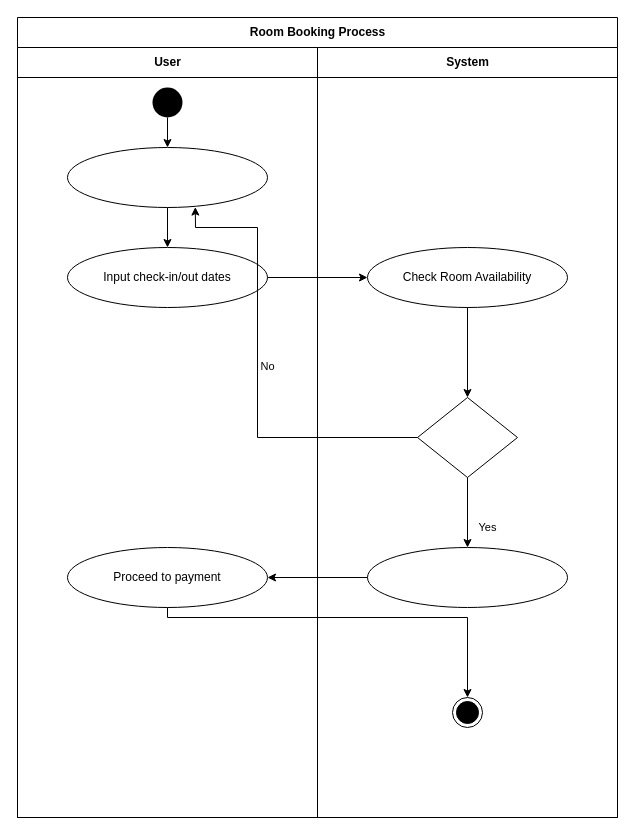
This 635x835 diagram has some shape labels left out. The shapes that lost their labels are listed below. From the top down, each one's centre as x and y in pixels, then its label:
(167,177): Select Hotel & Room
(467,437): Available?
(467,577): Show booking confirmation
